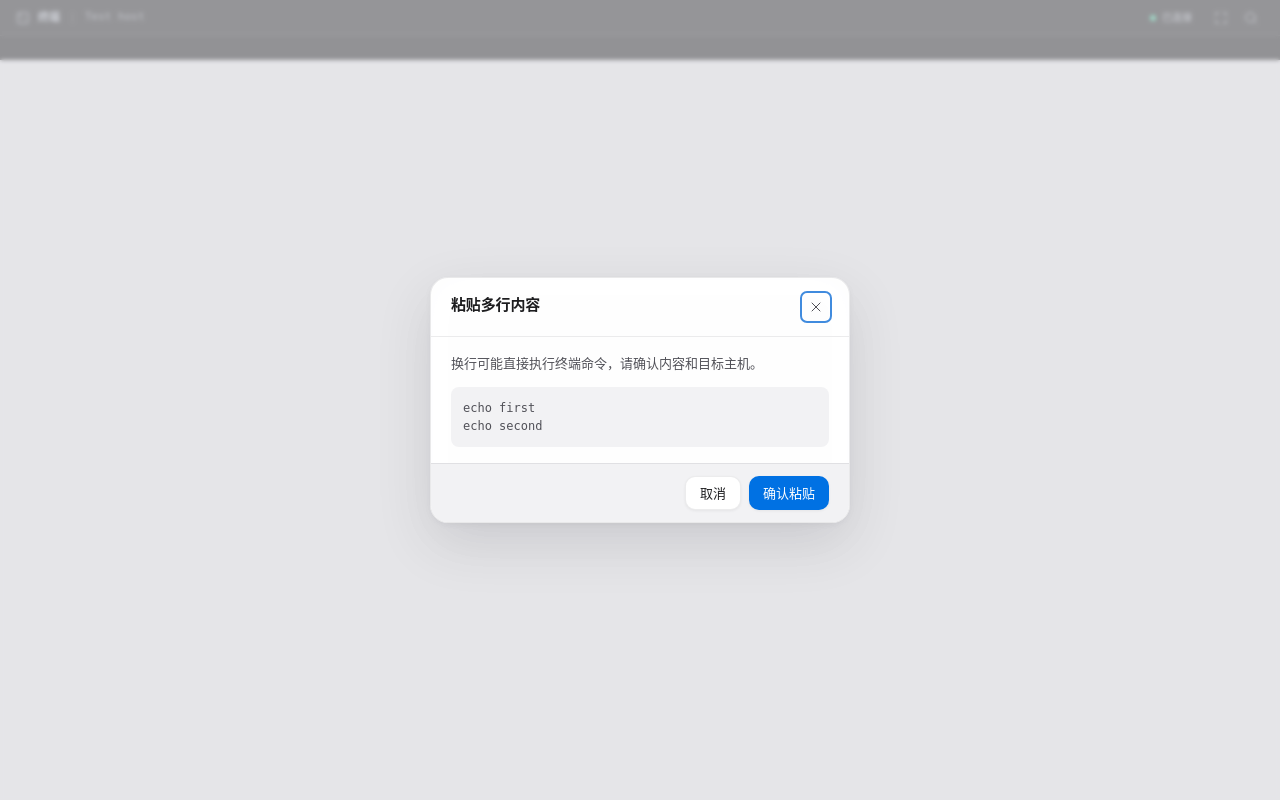
Scenario: previews multiline paste and only passes it to xterm after confirmation
Check: the dialog named "粘贴多行内容" is shown, box x1=430 y1=277 x2=850 y2=522
Click the button "确认粘贴" at x=789, y=493, box x1=749 y1=476 x2=829 y2=510
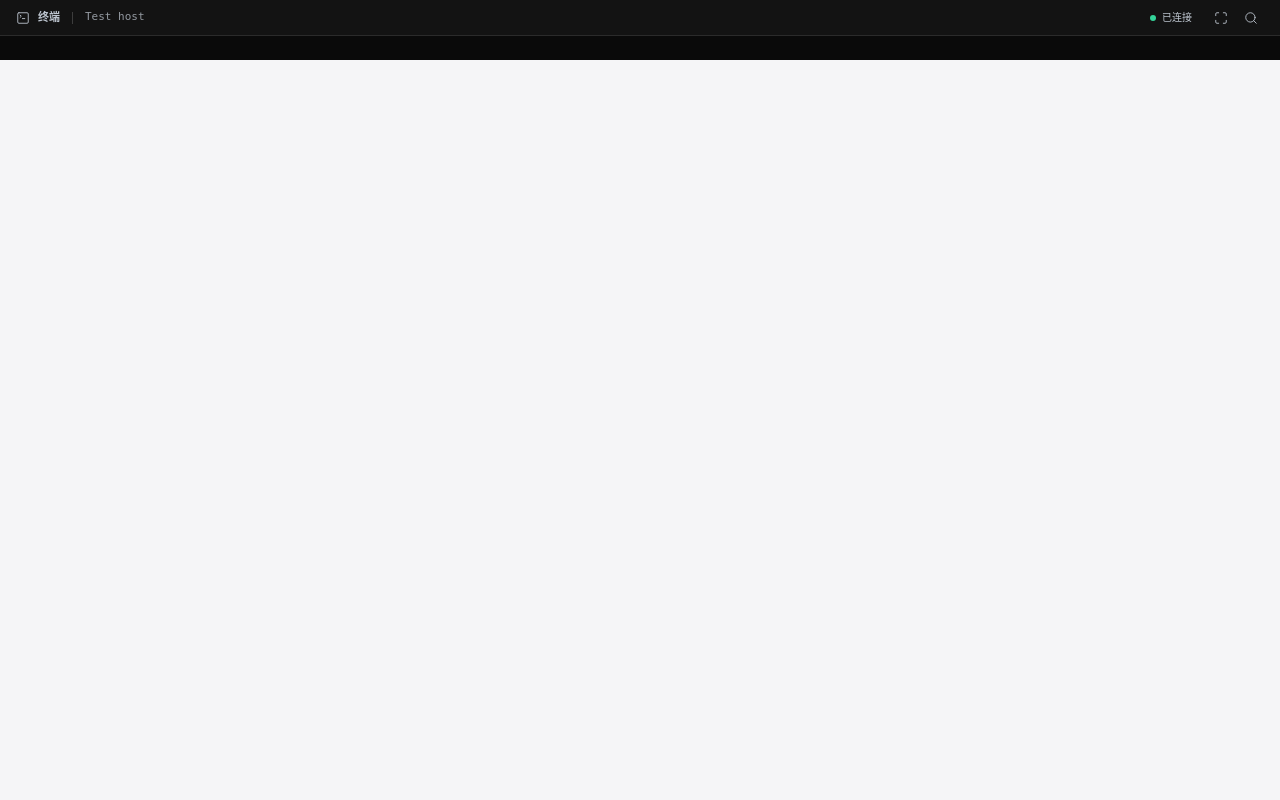
Check: the dialog is gone
